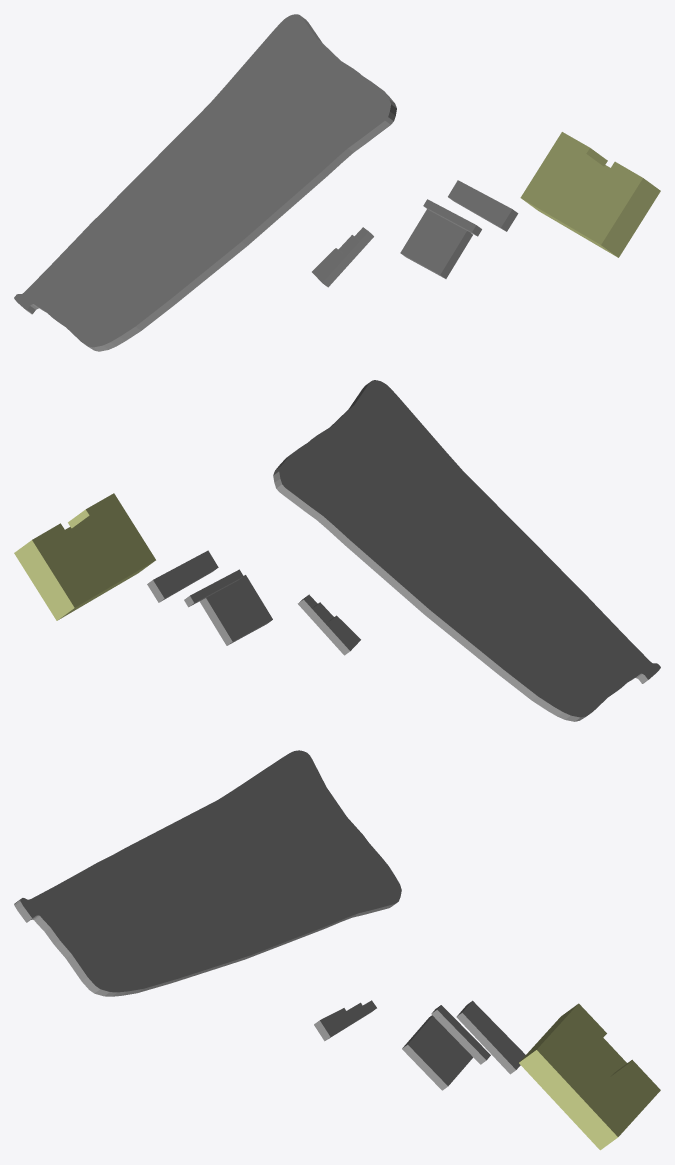
The picture shows the model from 3 angles, top to bottom: view 1: azimuth 30°, elevation 25°; view 2: azimuth 150°, elevation 25°; view 3: azimuth 330°, elevation 25°; orthographic projection.
Visible parts, largest first — view 1: 0_2_3_2_2_3; view 2: 0_2_3_2_2_3; view 3: 0_2_3_2_2_3.
Boxes of the visible parts, x1,y1,x2,y2 form: 0_2_3_2_2_3: [14, 14, 660, 351]; 0_2_3_2_2_3: [14, 380, 660, 721]; 0_2_3_2_2_3: [14, 750, 660, 1150].
Size of the model in its own units: 185 by 85.97 by 9.
